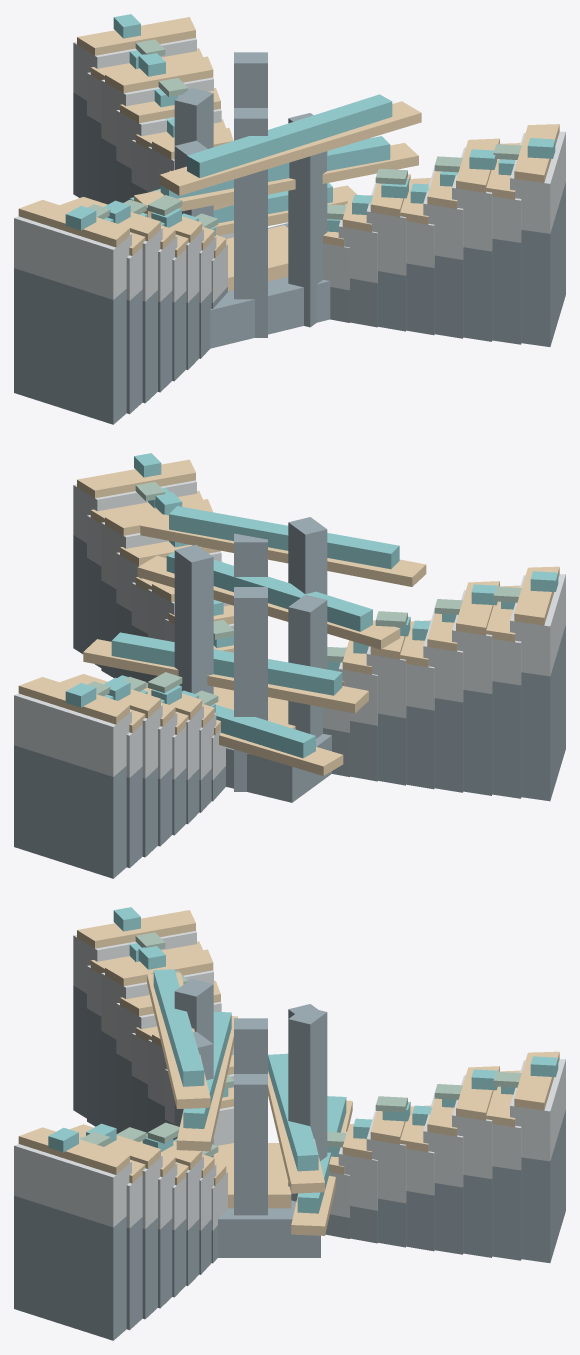
3 views of the same model, one above another, from view 1: azimuth 30°, elevation 25°; view 2: azimuth 150°, elevation 25°; view 3: azimuth 270°, elevation 25° (orthographic).
Size of the model in its own units: 280 by 114 by 260.
